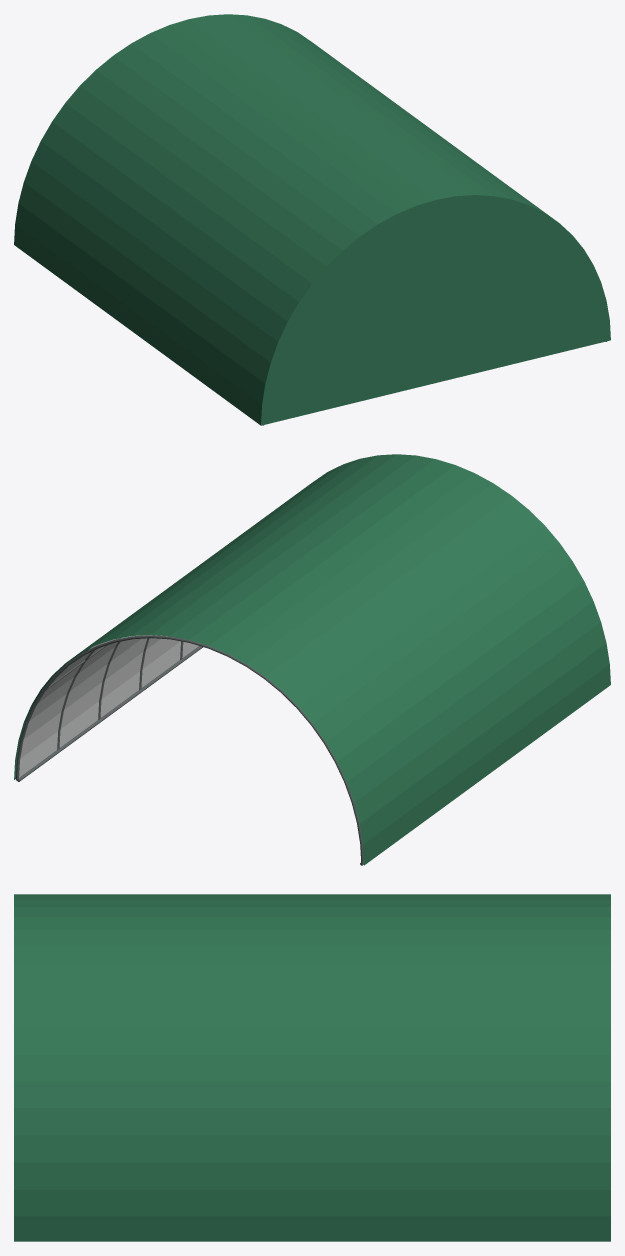
File: HomebaseHangar_LOD00.gltf
3 views of the same model, one above another, from view 1: azimuth 30°, elevation 25°; view 2: azimuth 150°, elevation 25°; view 3: azimuth 270°, elevation 25° (orthographic). The views are drawn at different scales.
Parts seen in each view (by area): view 1: HomebaseHangar_node; view 2: HomebaseHangar_node; view 3: HomebaseHangar_node.
Boxes of the visible parts, x1,y1,x2,y2 form: HomebaseHangar_node: [14, 14, 610, 425]; HomebaseHangar_node: [14, 454, 610, 865]; HomebaseHangar_node: [14, 894, 610, 1241].
Bounding box in the file's own units: 18 × 9.08 × 22.
